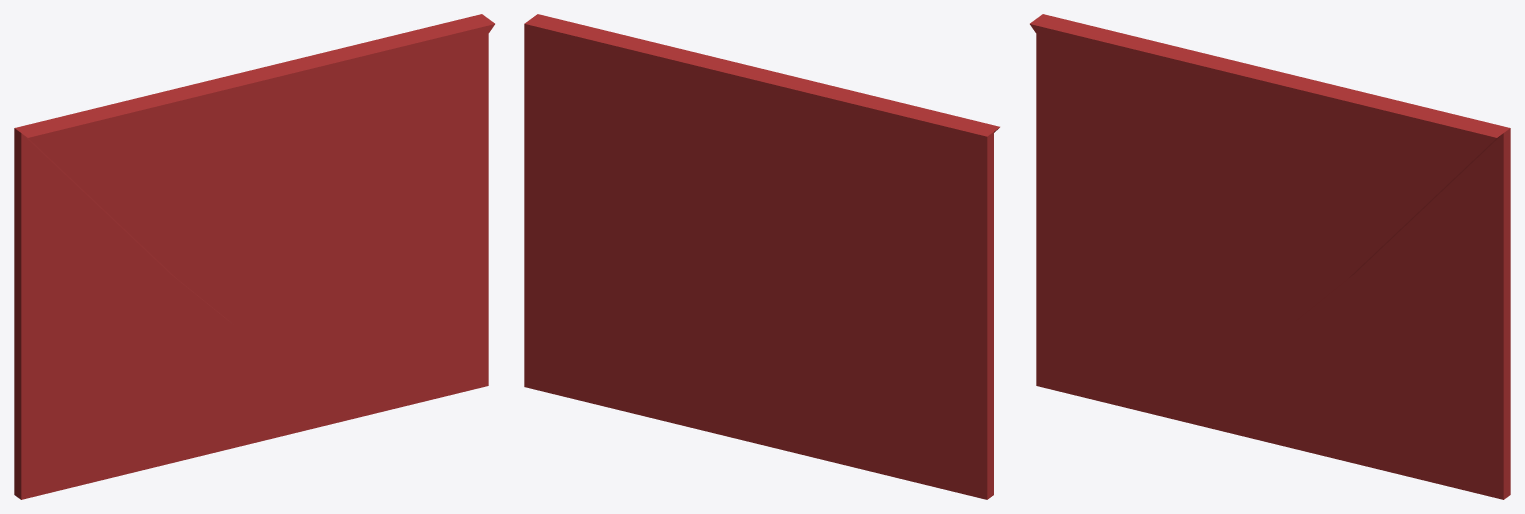
Rendered from envelope.FBX.
3 renders of one model, left to right at view 1: azimuth 30°, elevation 25°; view 2: azimuth 150°, elevation 25°; view 3: azimuth 330°, elevation 25°, orthographic.
Parts seen in each view (by area): view 1: envelope; view 2: envelope; view 3: envelope.
Part boxes in pixels (x1=…): envelope: x1=14, y1=14, x2=494, y2=499; envelope: x1=524, y1=14, x2=999, y2=499; envelope: x1=1030, y1=14, x2=1510, y2=499.
Bounding box in the file's own units: 40 × 30 × 2.
